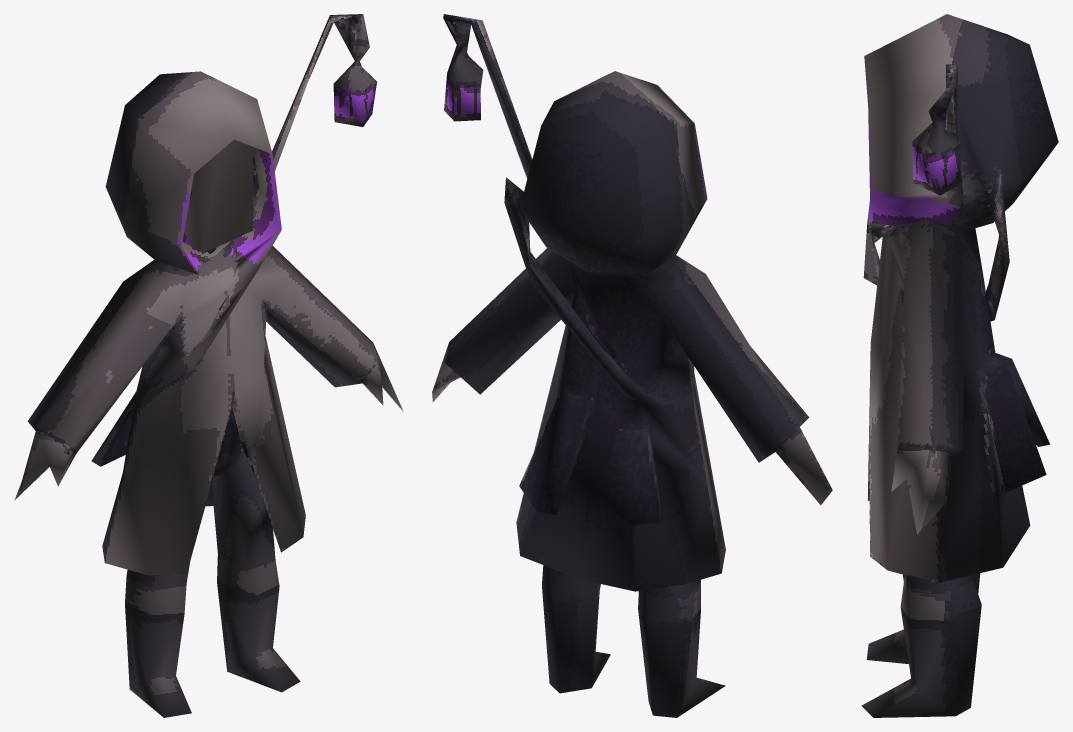
File: hero_wren.glb
3 renders of one model, left to right at view 1: azimuth 30°, elevation 25°; view 2: azimuth 150°, elevation 25°; view 3: azimuth 270°, elevation 25°, orthographic. The views are drawn at different scales.
Parts seen in each view (by area): view 1: hero_wren; view 2: hero_wren; view 3: hero_wren.
Boxes of the visible parts, bbox=[...] form: hero_wren: bbox=[14, 14, 403, 717]; hero_wren: bbox=[432, 14, 832, 717]; hero_wren: bbox=[861, 14, 1058, 717].
Size of the model in its own units: 0.6417 by 0.9926 by 0.2561.
Materials: 1 (1 with a texture image).
